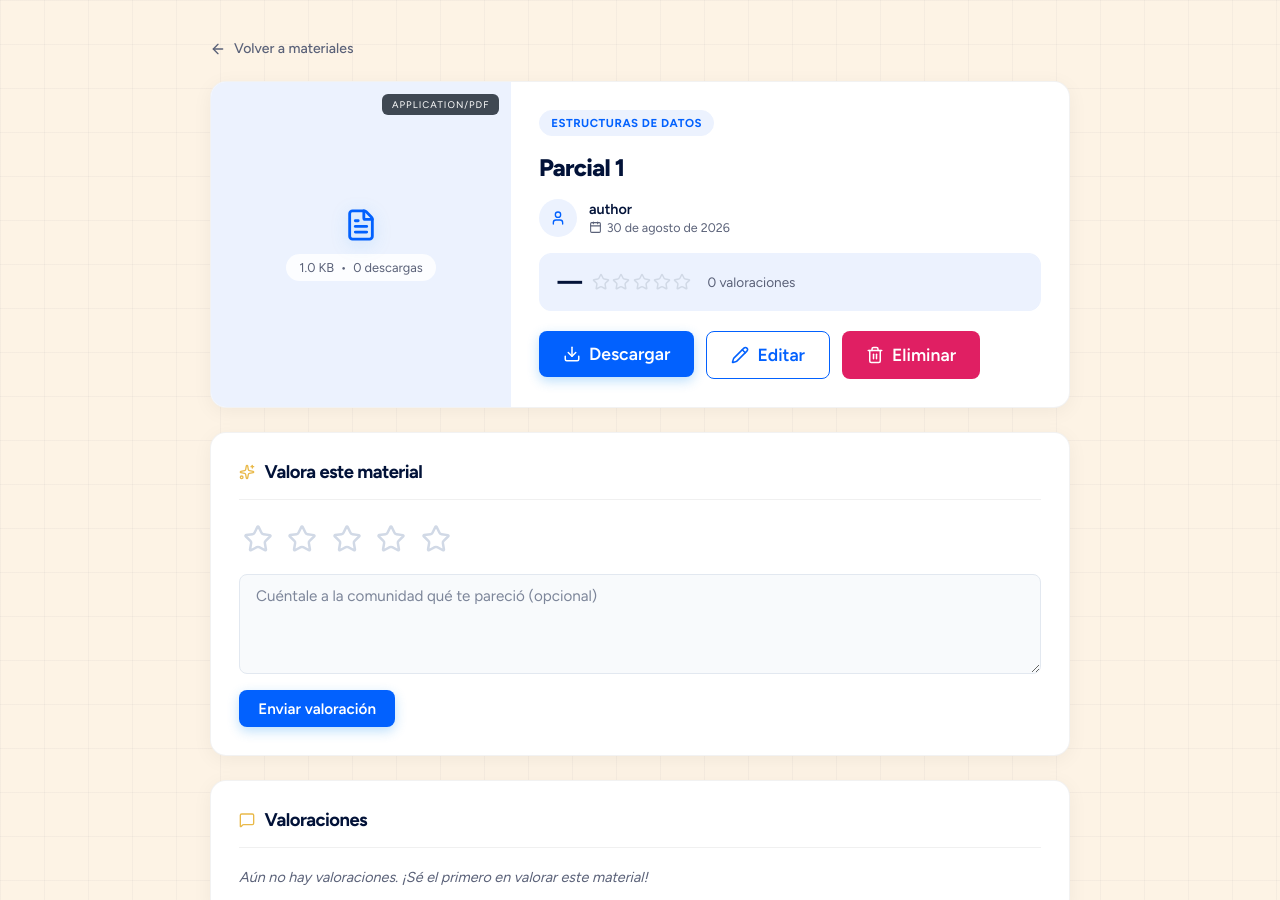
Test: MaterialDetail management controls › keeps deletion behind a confirmation for the material owner
Expected: the heading "Parcial 1" is shown, left=539, top=153, right=624, bottom=182
Click the button "Eliminar" at x=911, y=355, box left=842, top=331, right=980, bottom=379
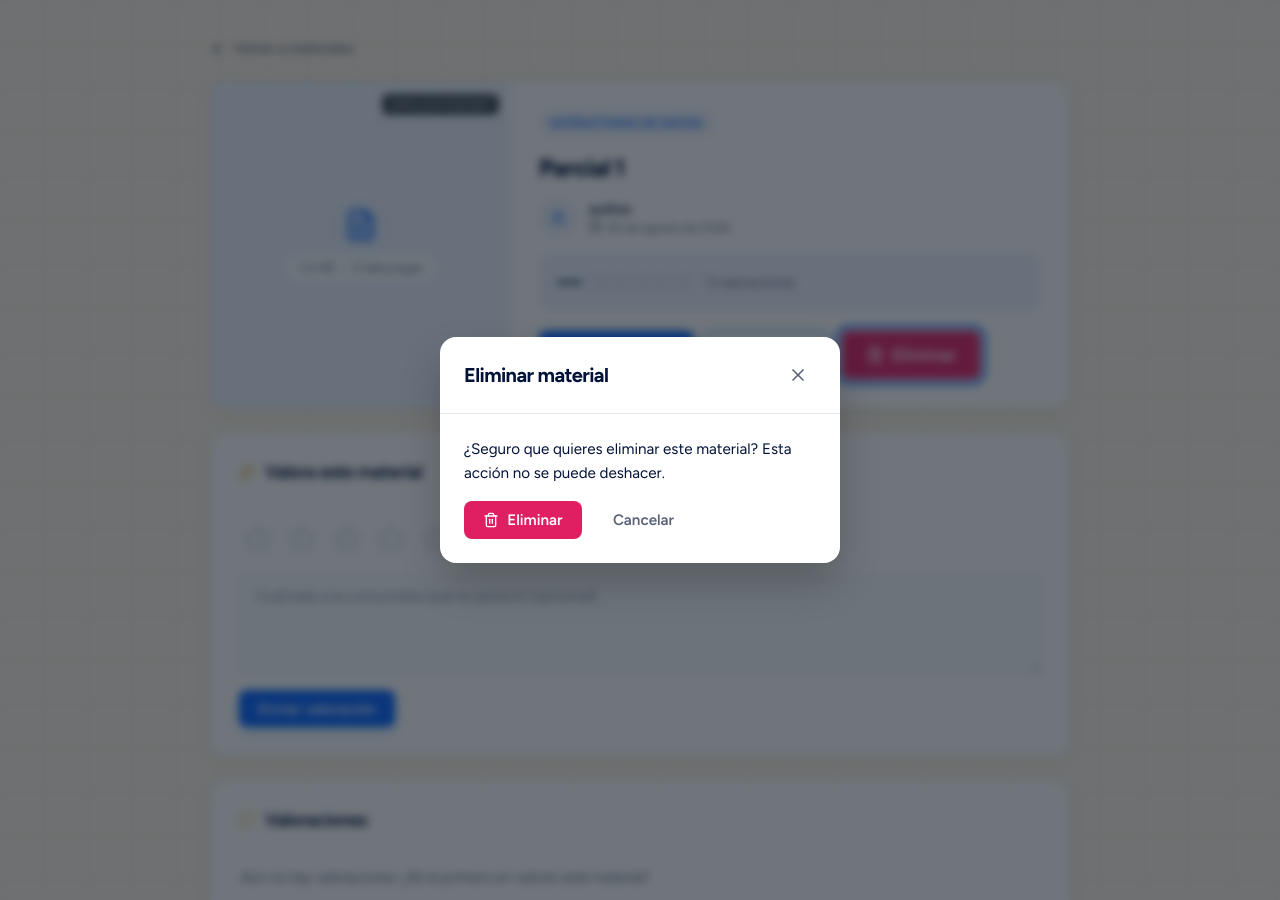
Now the dialog "Eliminar material" is shown, box left=440, top=337, right=840, bottom=563
Now the text "Esta acción no se puede deshacer" is shown, box left=464, top=440, right=792, bottom=482
Now the button "Cancelar" is shown, box left=594, top=502, right=693, bottom=539
